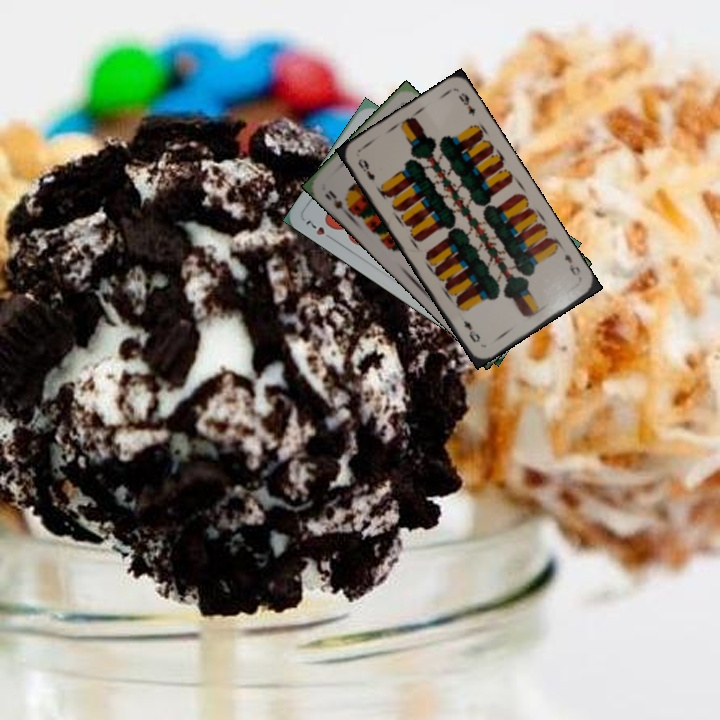E9: (560, 250, 583, 279), (354, 155, 377, 183)
H7: (301, 216, 337, 243)
S9: (321, 186, 354, 218)
